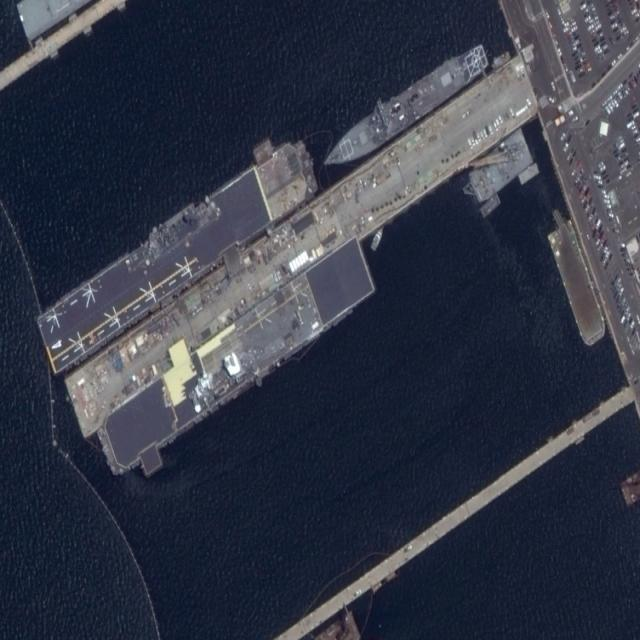Destroyer: (319, 38, 490, 180)
Landing: (35, 133, 321, 376), (96, 234, 376, 480)
